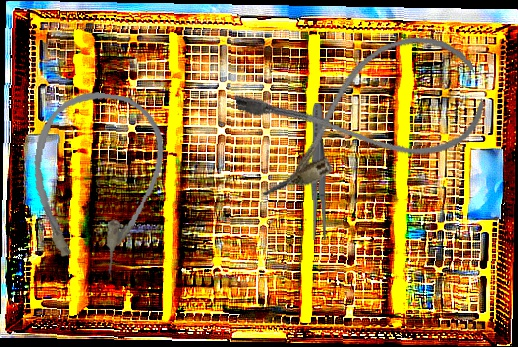Cannula: (232, 22, 493, 203), (18, 84, 172, 280)
Dressing Forceps: (308, 102, 329, 241)
